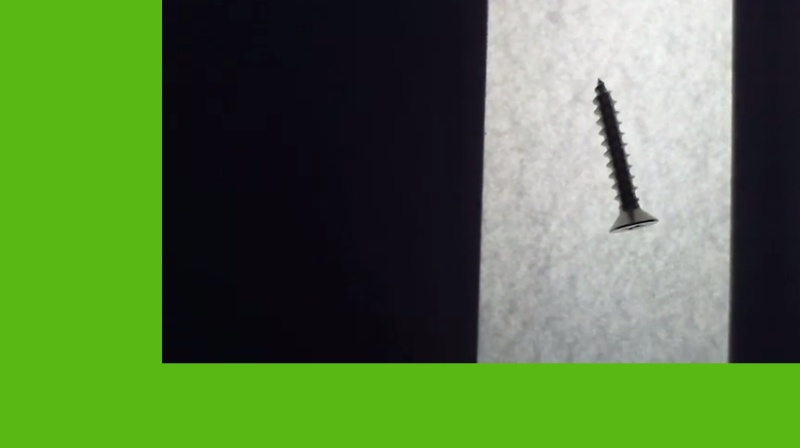S001: (587, 74, 660, 233)
